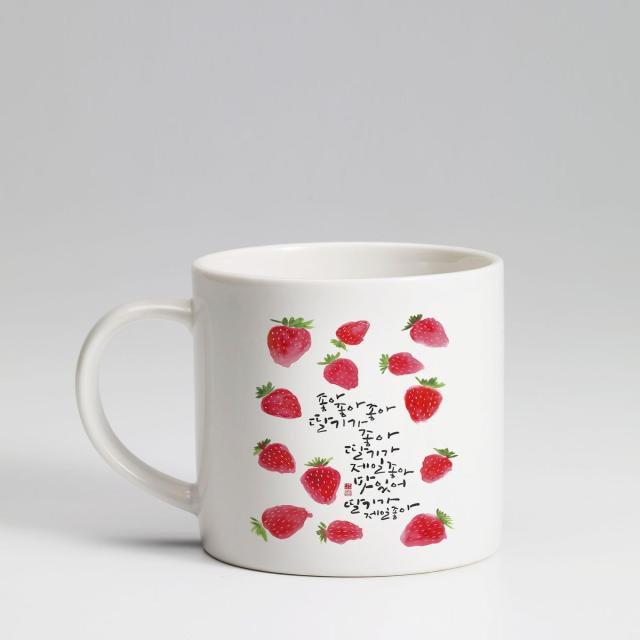glass cup: (78, 241, 504, 579)
